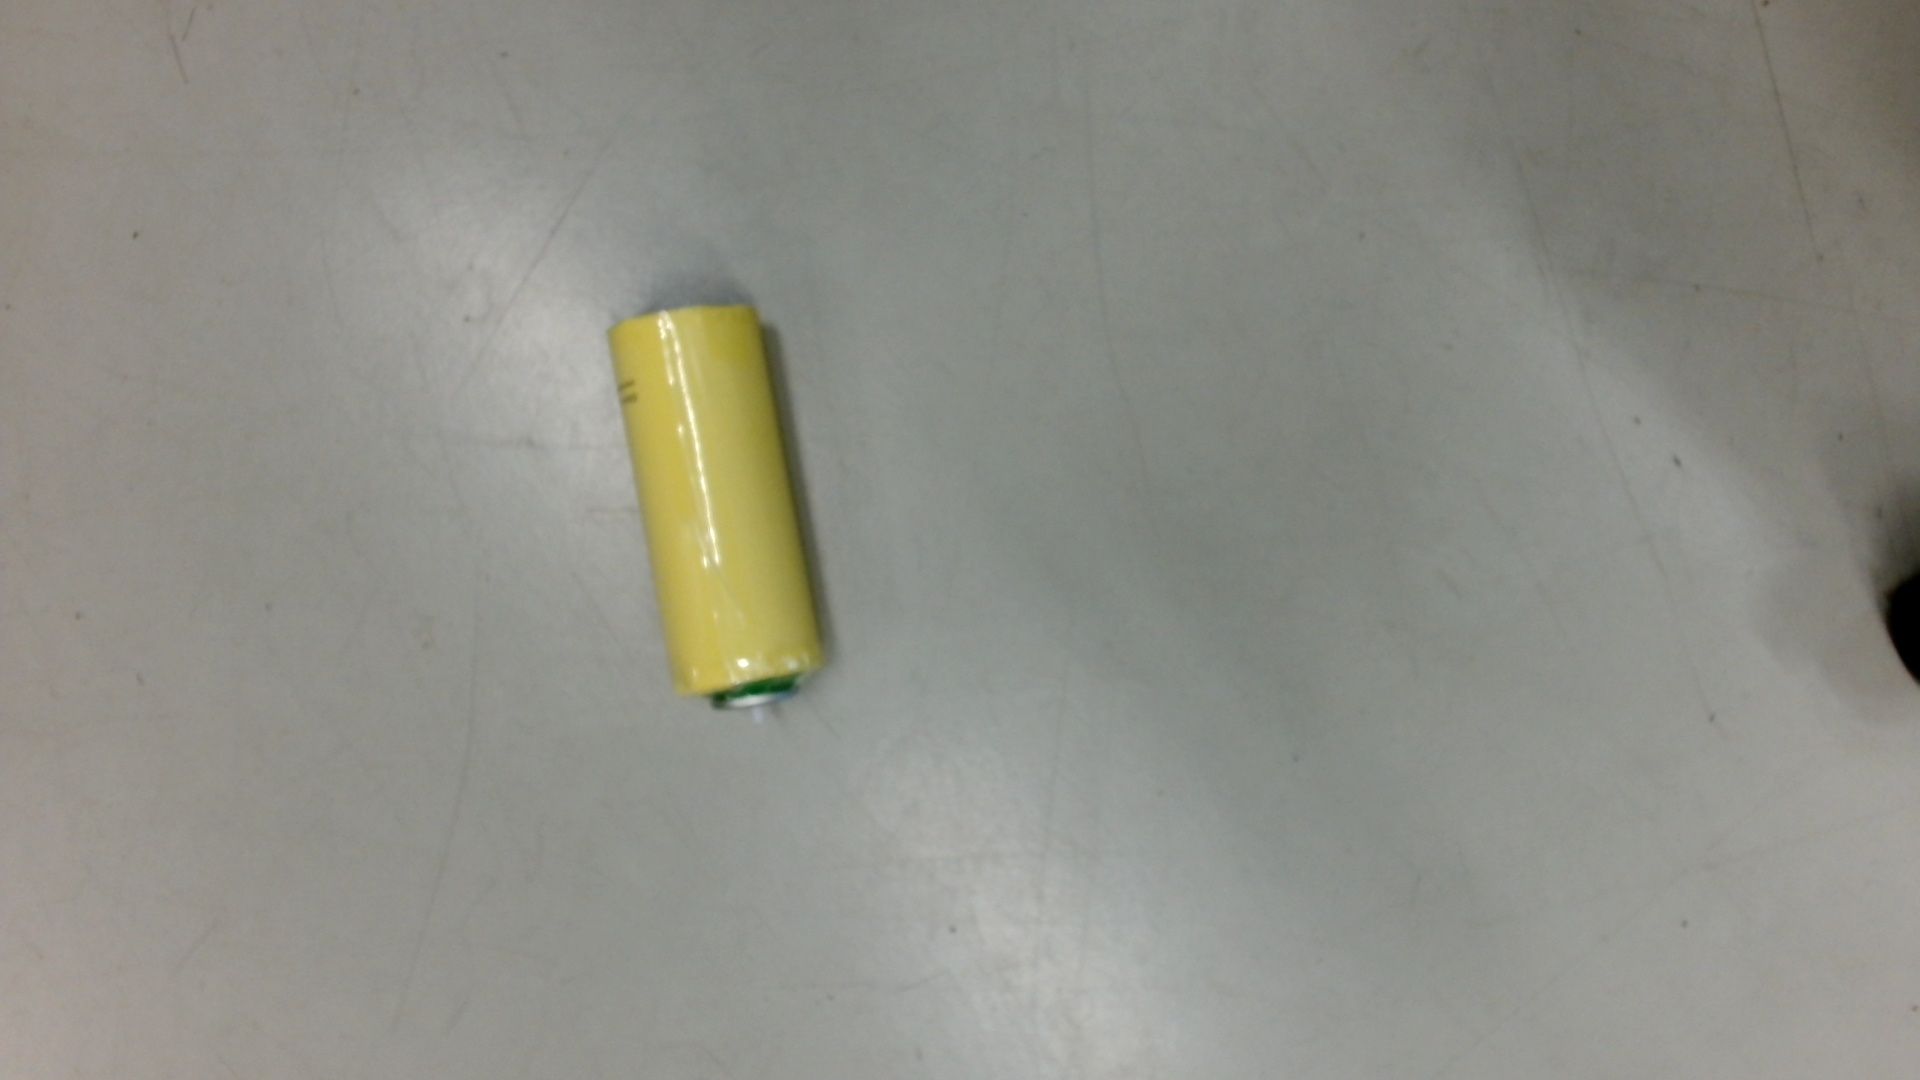Cylinder: (593, 295, 845, 736)
